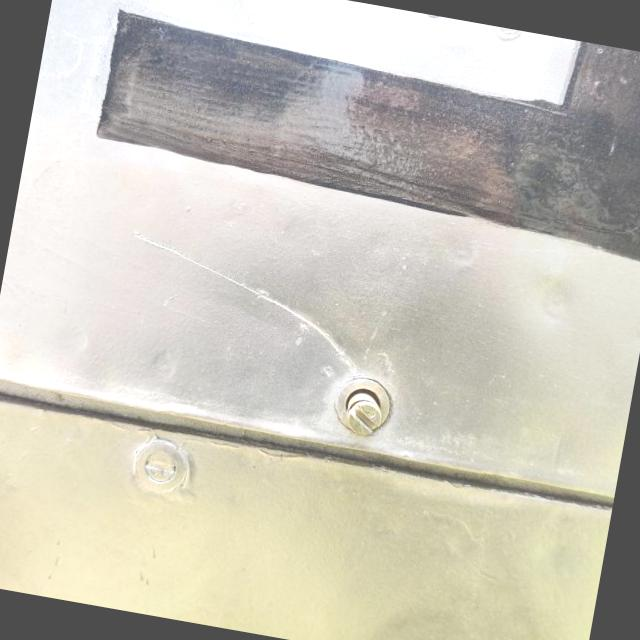scratch: (102, 218, 381, 380)
